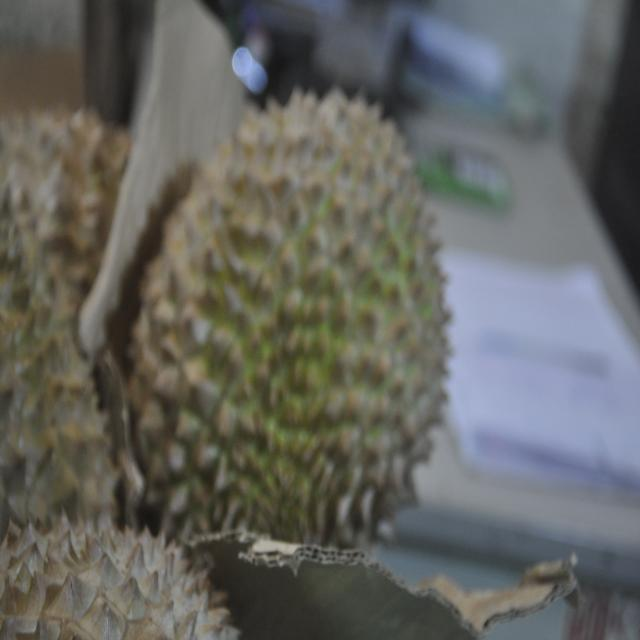mature: (130, 94, 448, 544)
